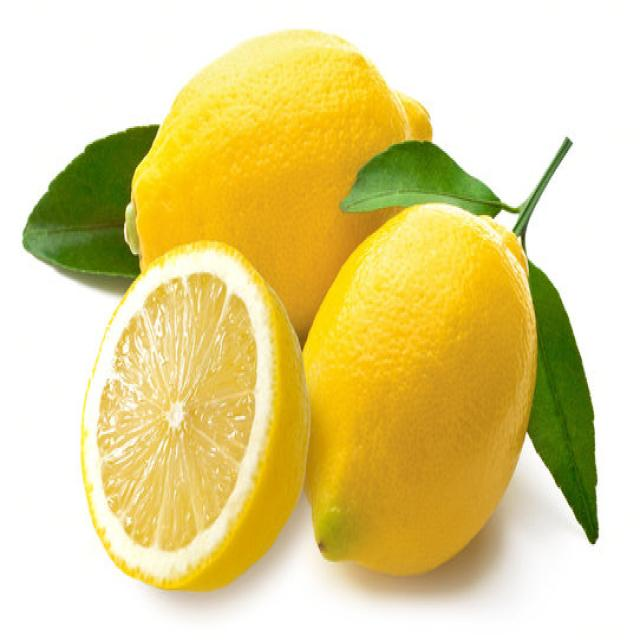Lemon: (124, 27, 432, 345), (301, 199, 539, 576), (79, 238, 311, 592)
